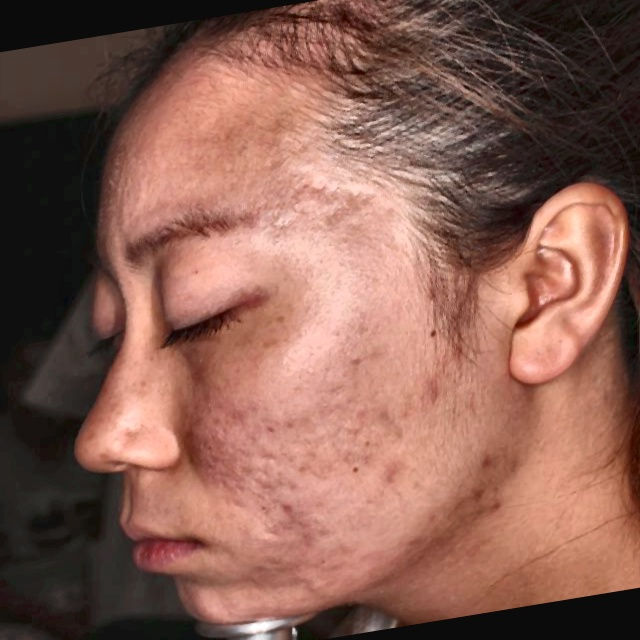comedone: (409, 380, 442, 419), (225, 394, 247, 428), (381, 456, 400, 492)
